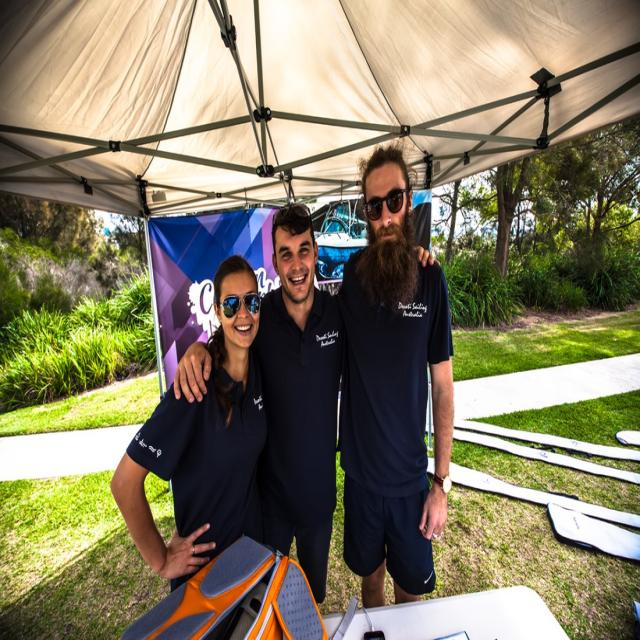body: (171, 202, 443, 613), (332, 142, 458, 611), (108, 253, 275, 597), (431, 212, 556, 238)
